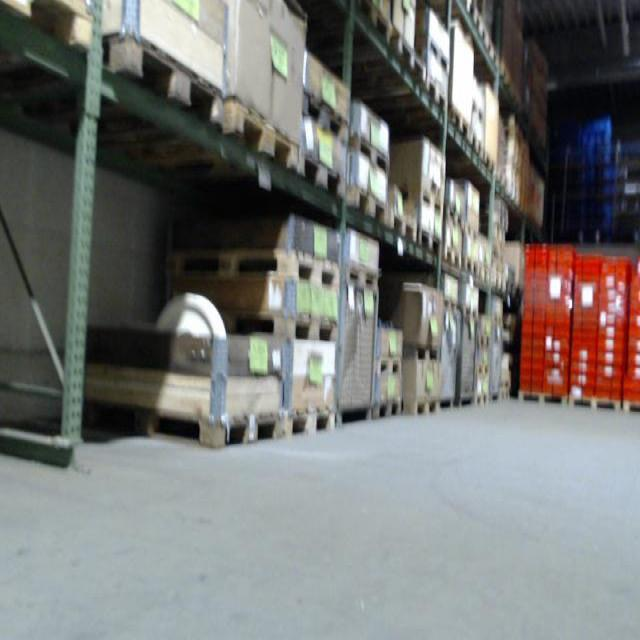pallet: (100, 31, 225, 127), (79, 394, 281, 450), (166, 249, 345, 292), (222, 96, 296, 171), (0, 0, 93, 55), (215, 305, 341, 345), (300, 88, 350, 149), (296, 149, 348, 199), (346, 181, 390, 228), (282, 406, 336, 440), (355, 0, 394, 47), (350, 134, 392, 176), (395, 32, 427, 83), (399, 184, 445, 215), (345, 259, 380, 290), (388, 210, 418, 245), (421, 73, 448, 111), (568, 395, 623, 413), (426, 36, 450, 75), (516, 388, 569, 405), (403, 343, 443, 364), (447, 104, 470, 140), (407, 395, 440, 419), (374, 352, 404, 375), (372, 398, 402, 421), (418, 226, 442, 254), (479, 18, 493, 59), (442, 244, 462, 271), (460, 0, 479, 24), (468, 130, 484, 158), (444, 204, 464, 226), (470, 98, 485, 125), (499, 63, 513, 89), (464, 257, 480, 279), (472, 391, 490, 407), (464, 223, 480, 241), (495, 171, 509, 191), (483, 153, 496, 174), (464, 305, 480, 320), (621, 401, 640, 413), (475, 361, 490, 375), (493, 276, 506, 292), (477, 335, 490, 349), (444, 297, 456, 312)
stillage: (332, 285, 387, 427), (452, 316, 478, 407), (489, 329, 502, 409)
